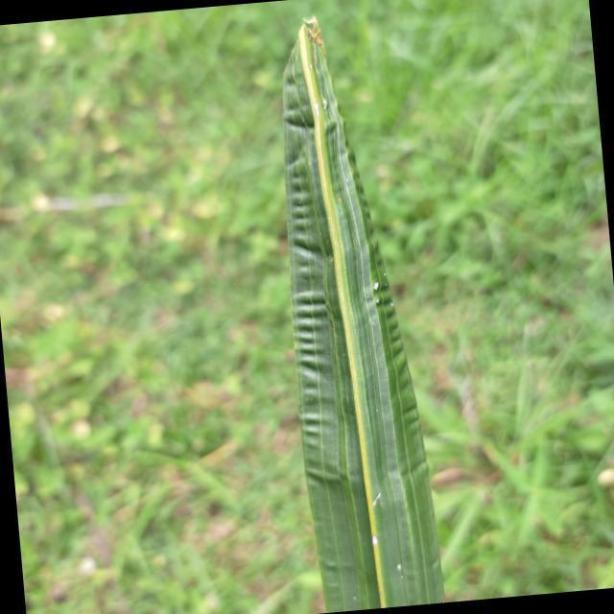Boron: (278, 6, 448, 614)
